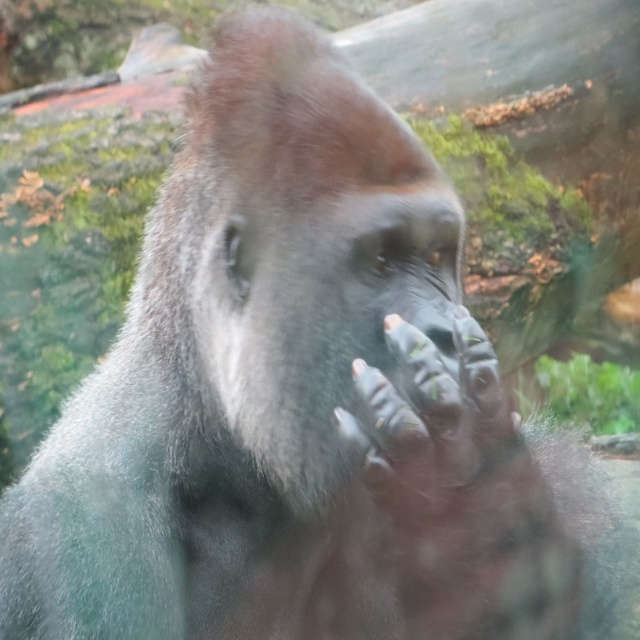Monkey: (12, 5, 607, 617)
